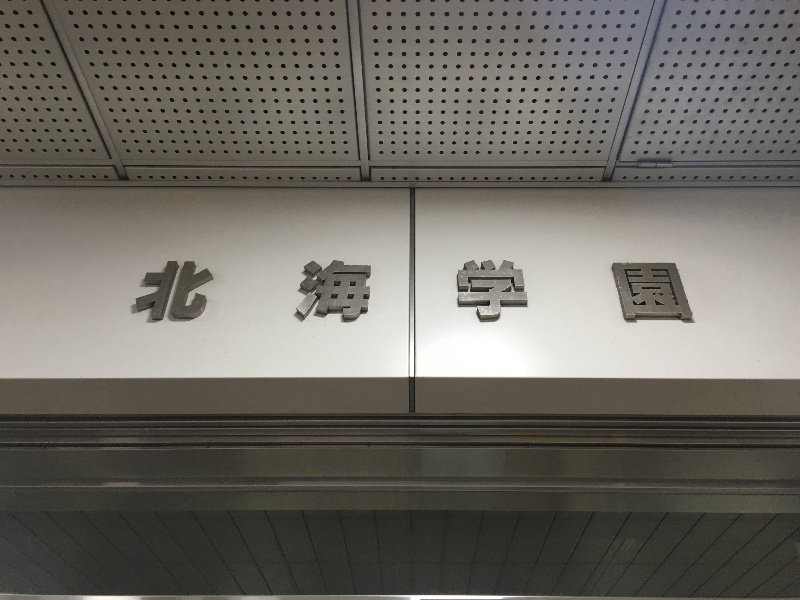text: (161, 262, 176, 324), (177, 262, 192, 324), (193, 262, 208, 324), (209, 262, 224, 324), (225, 262, 240, 324), (241, 262, 256, 324), (257, 262, 272, 324), (273, 262, 288, 324), (289, 262, 304, 324), (305, 262, 320, 324), (321, 262, 336, 324), (337, 262, 352, 324), (353, 262, 368, 324), (369, 262, 384, 324), (385, 262, 400, 324), (401, 262, 416, 324), (417, 262, 432, 324), (433, 262, 448, 324), (449, 262, 464, 324), (465, 262, 480, 324), (481, 262, 496, 324), (497, 262, 512, 324), (513, 262, 528, 324), (529, 262, 544, 324), (545, 262, 560, 324), (561, 262, 576, 324), (577, 262, 592, 324), (593, 262, 608, 324), (609, 262, 624, 324), (625, 262, 640, 324), (641, 262, 656, 324), (657, 262, 672, 324), (673, 262, 688, 324), (149, 262, 160, 324), (689, 262, 698, 324)
